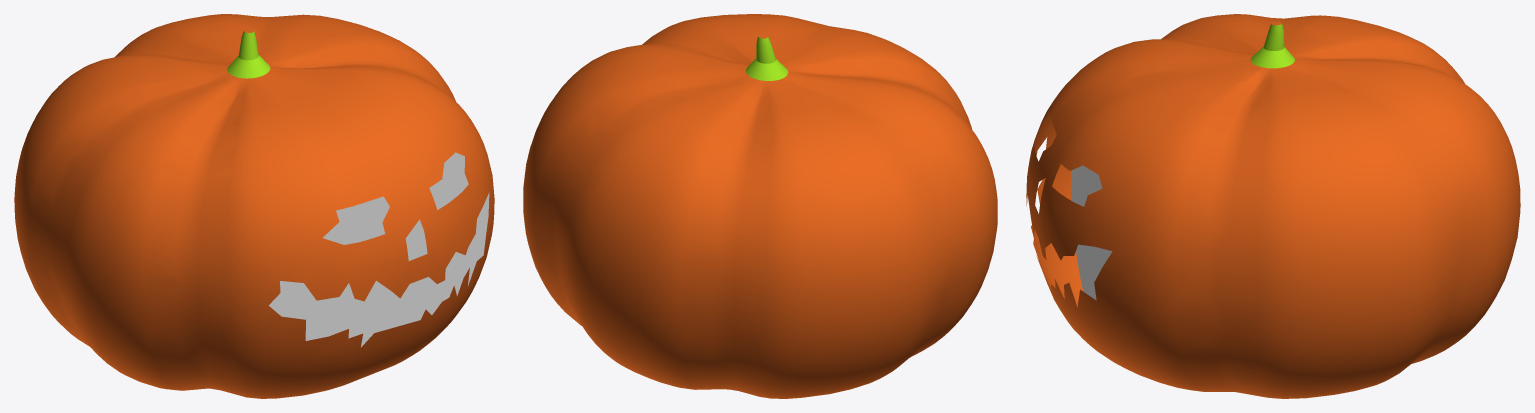
The model's file is Tikmo3.fbx.
3 renders of one model, left to right at view 1: azimuth 30°, elevation 25°; view 2: azimuth 150°, elevation 25°; view 3: azimuth 270°, elevation 25°, orthographic. The views are drawn at different scales.
Parts seen in each view (by area): view 1: Grid, Plane, Grid.002; view 2: Grid, Grid.002; view 3: Grid, Plane, Grid.002.
Part boxes in pixels (left/top/right/bottom): Grid: left=14, top=14, right=494, bottom=398; Plane: left=269, top=152, right=489, bottom=347; Grid.002: left=227, top=31, right=270, bottom=78; Grid: left=523, top=14, right=997, bottom=398; Grid.002: left=745, top=36, right=788, bottom=80; Grid: left=1026, top=14, right=1520, bottom=398; Plane: left=1071, top=165, right=1112, bottom=300; Grid.002: left=1250, top=21, right=1294, bottom=68.
Size of the model in its own units: 206 by 152 by 209.
